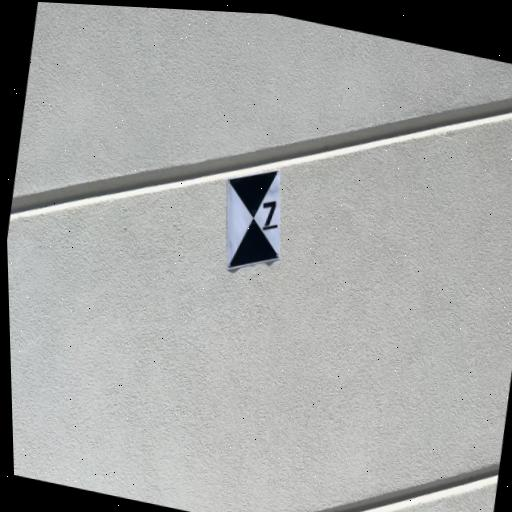target7: (226, 167, 280, 270)
